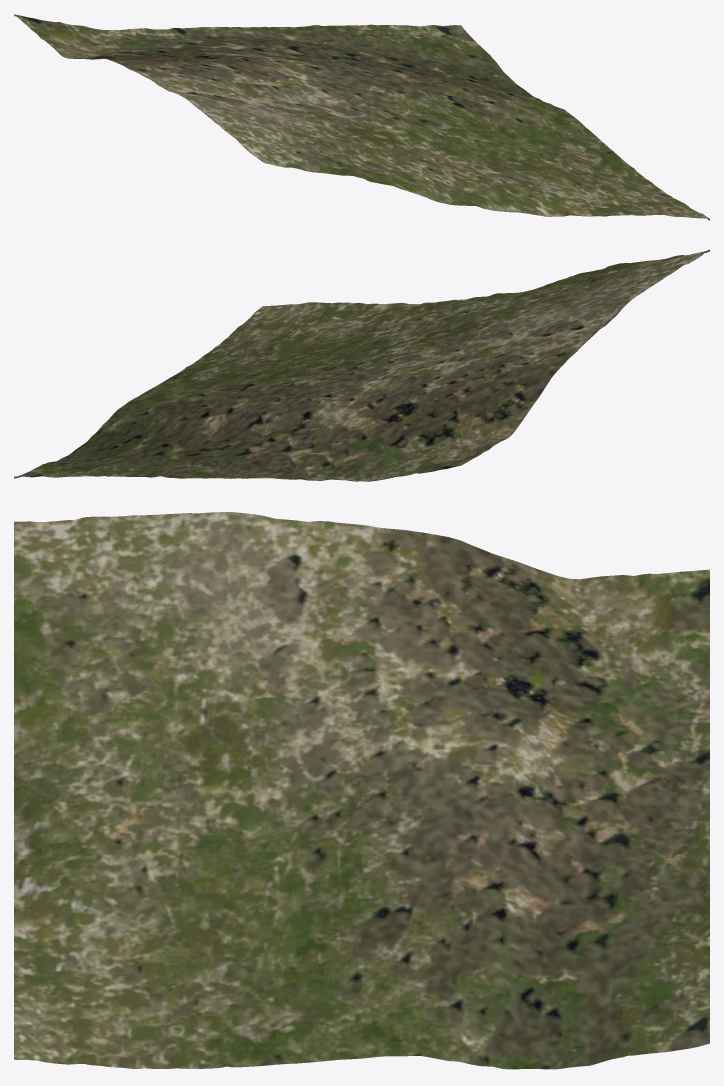
3 views of the same model, one above another, from view 1: azimuth 30°, elevation 25°; view 2: azimuth 150°, elevation 25°; view 3: azimuth 270°, elevation 25° (orthographic). The views are drawn at different scales.
Size of the model in its own units: 250 by 97.05 by 241.
1 material, 1 textured.
